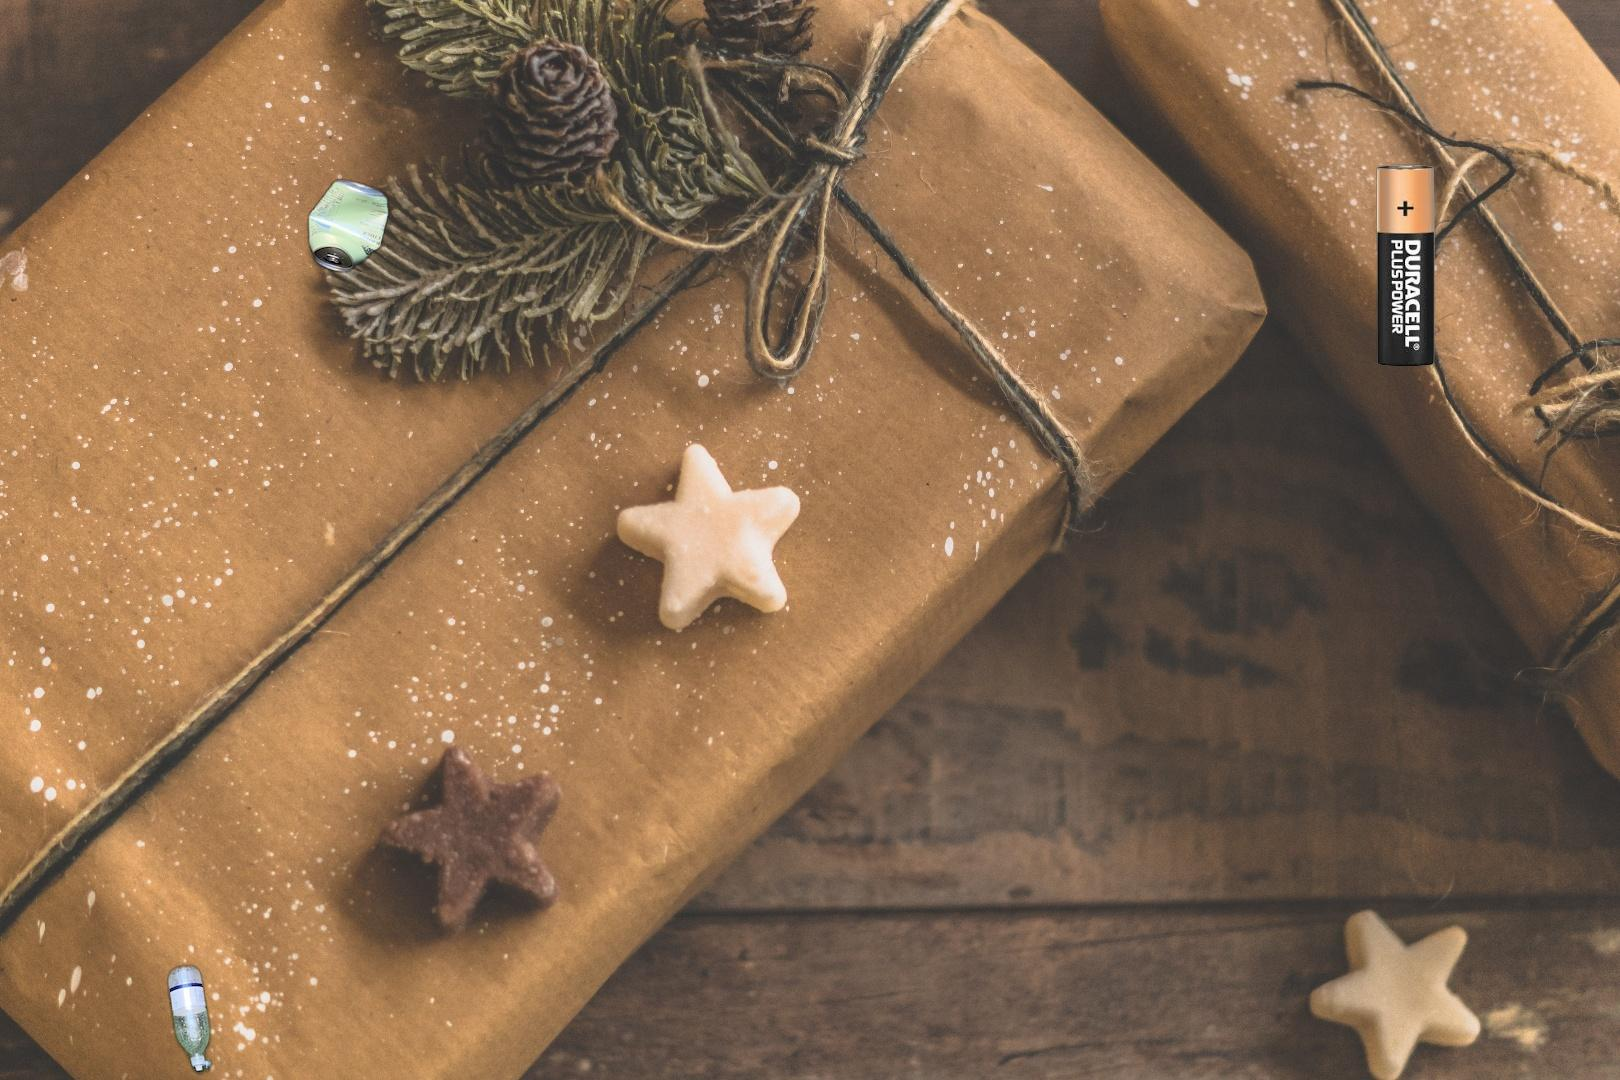battery: (1374, 162, 1438, 366)
metal-cans: (304, 174, 394, 278)
plastic-bottles: (163, 959, 216, 1080)
